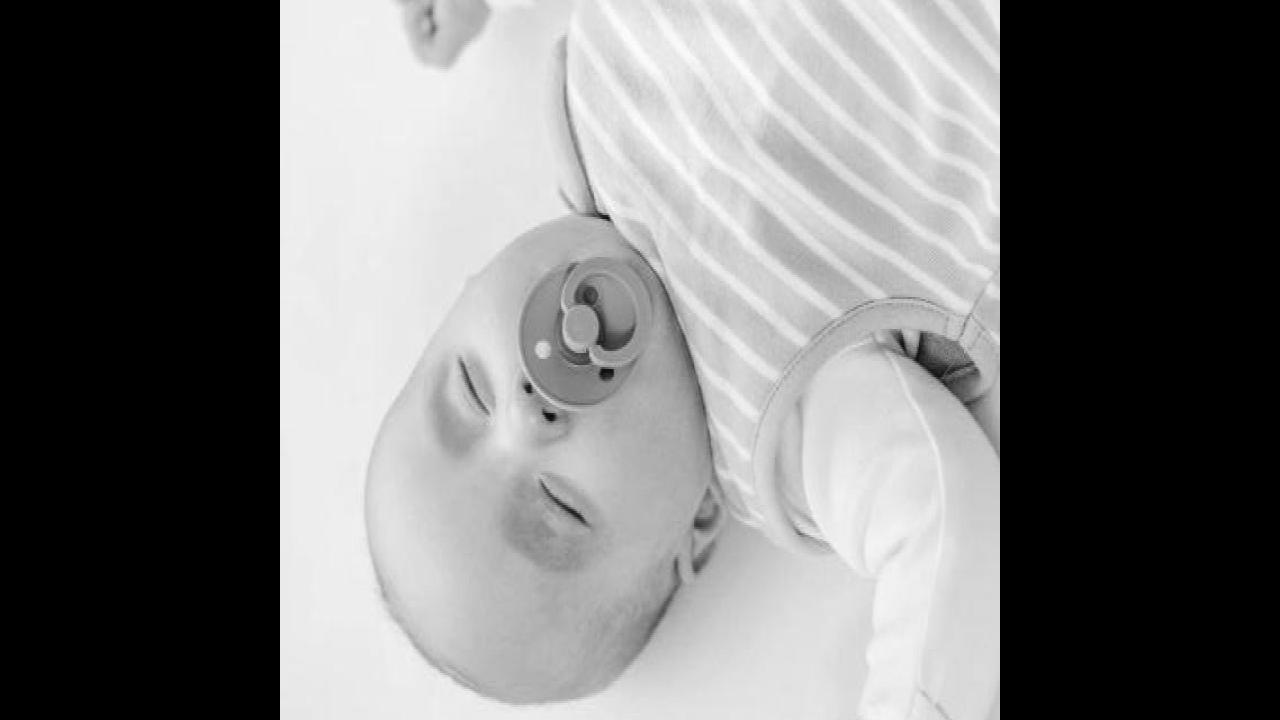hand: (381, 0, 489, 81)
